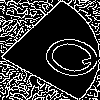Q: (25, 24, 100, 86)
